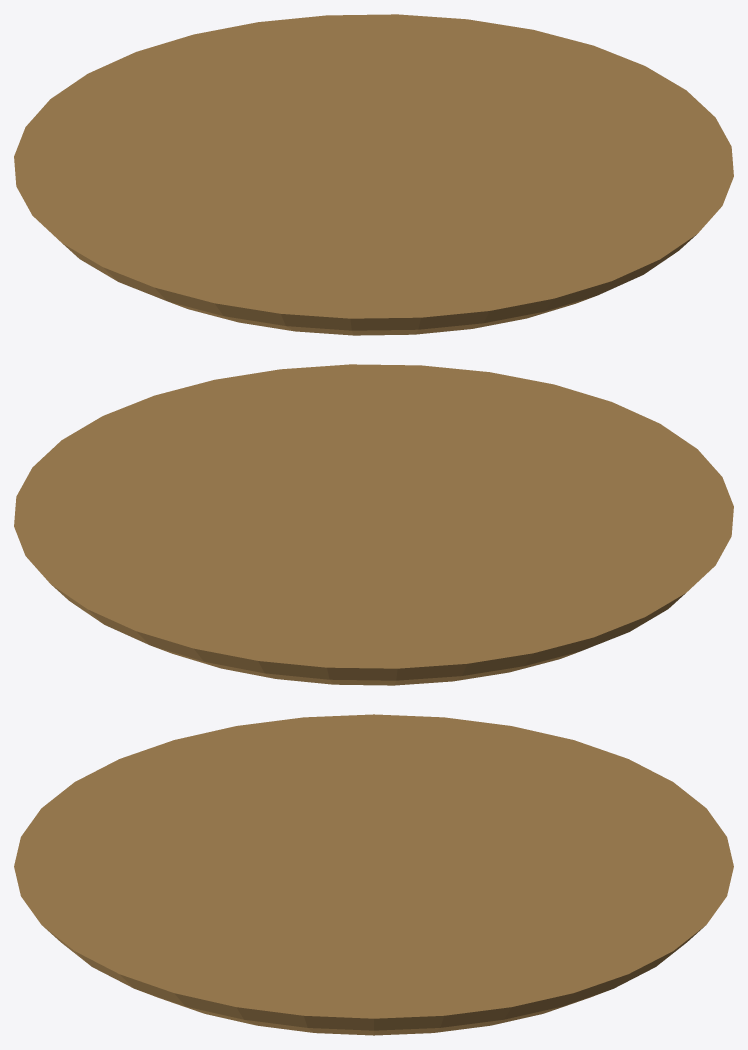
The model's file is Ground.obj.
3 views of the same model, one above another, from view 1: azimuth 30°, elevation 25°; view 2: azimuth 150°, elevation 25°; view 3: azimuth 270°, elevation 25° (orthographic).
Visible parts, largest first — view 1: 球; view 2: 球; view 3: 球.
Boxes of the visible parts, x1,y1,x2,y2 form: 球: [14, 14, 733, 335]; 球: [14, 364, 733, 685]; 球: [14, 714, 733, 1035].
Size of the model in its own units: 58.85 by 8.09 by 58.85.
Materials: 1 (1 with a texture image).
